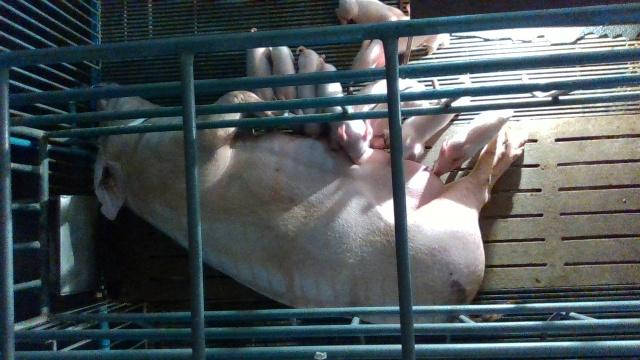piglet: (433, 107, 514, 178), (384, 96, 470, 161), (318, 63, 374, 161), (352, 33, 450, 70), (247, 27, 280, 117), (295, 46, 325, 139), (271, 46, 303, 117), (335, 0, 410, 25)
sow-sleep-lactate: (92, 82, 527, 325)
